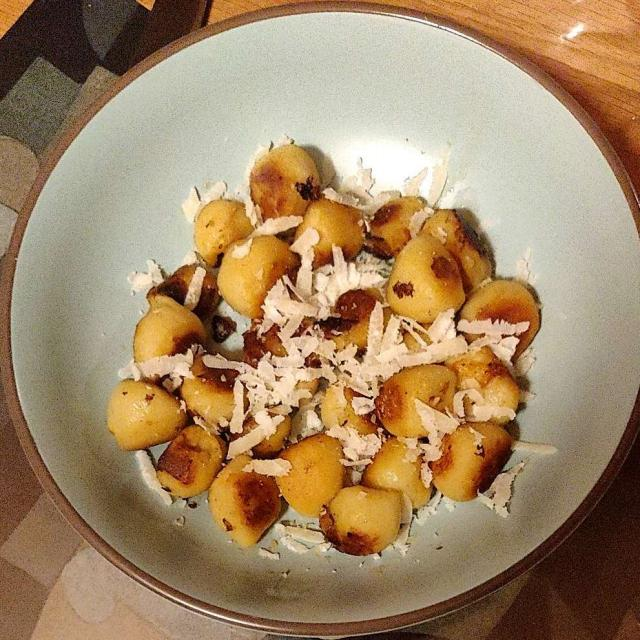parmesan: (162, 153, 518, 492)
potato-gnocchi: (118, 152, 550, 572)
